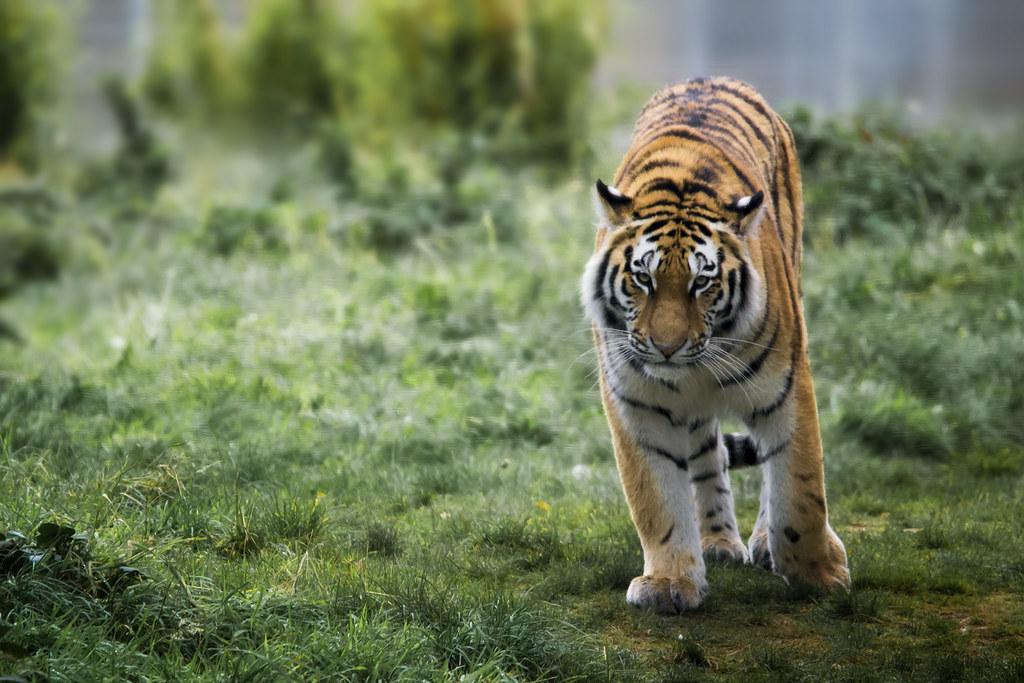tiger: (577, 74, 854, 616)
